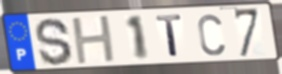1: (125, 13, 150, 62)
7: (233, 7, 263, 59)
C: (196, 12, 227, 57)
H: (70, 14, 119, 67)
S: (33, 16, 75, 67)
T: (154, 13, 184, 59)
